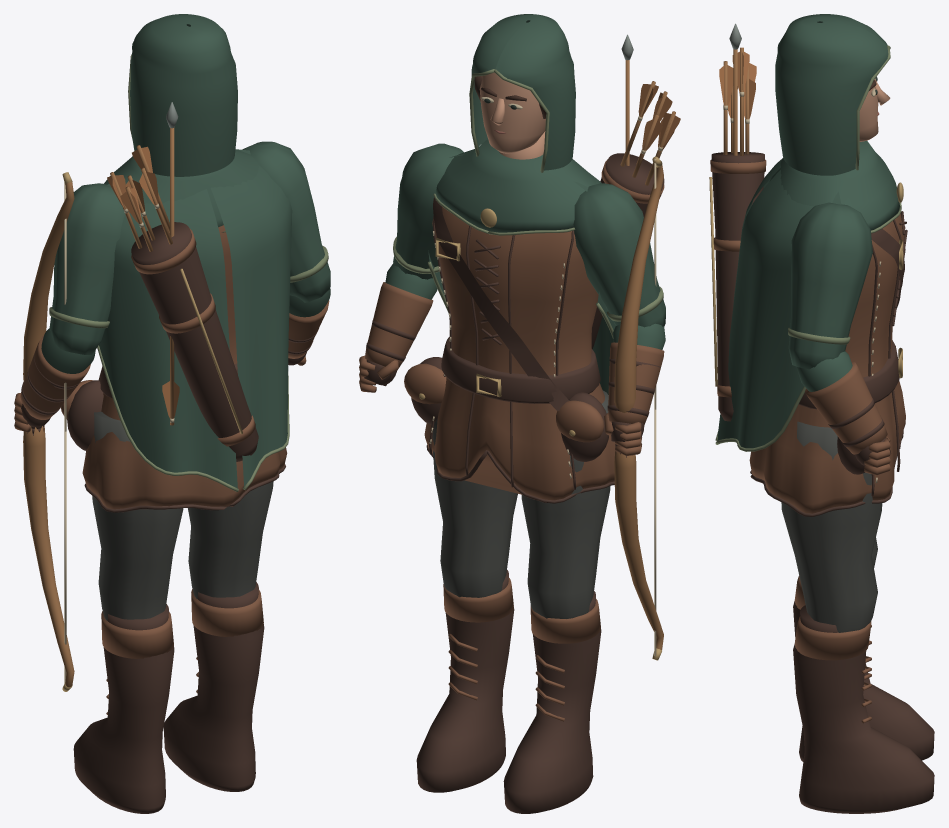
Rendered from archer.glb.
The picture shows the model from 3 angles, left to right: view 1: azimuth 30°, elevation 25°; view 2: azimuth 150°, elevation 25°; view 3: azimuth 270°, elevation 25°; orthographic projection. The views are drawn at different scales.
Parts seen in each view (by area): view 1: Doublet Lana de pino, RangerHead Lana de pino, LegRight Cuero encerado, LegLeft Cuero encerado, Carcaj Cuero encerado, Doublet Jubón de avellana, SleeveLeft Lana de pino, LegLeft Calzas de carbón, Longbow Tejo, LegRight Calzas de carbón, SleeveRight Lana de pino, Doublet Cuero encerado (+13 smaller); view 2: Doublet Jubón de avellana, Doublet Cuero encerado, LegRight Cuero encerado, LegLeft Cuero encerado, Doublet Lana de pino, LegLeft Calzas de carbón, RangerHead Lana de pino, LegRight Calzas de carbón, SleeveLeft Lana de pino, Longbow Tejo, SleeveRight Lana de pino, RangerHead Piel tostada (+17 smaller); view 3: Doublet Lana de pino, LegRight Cuero encerado, RangerHead Lana de pino, Doublet Jubón de avellana, LegRight Calzas de carbón, SleeveRight Lana de pino, Carcaj Cuero encerado, Doublet Cuero encerado, BracerRight Jubón de avellana, LegLeft Cuero encerado, LegRight Jubón de avellana, Carcaj Tejo (+11 smaller).
Part boxes in pixels (x1,y1,x2,y2): Doublet Lana de pino: (99,149,292,488); RangerHead Lana de pino: (130,14,237,176); LegRight Cuero encerado: (163,582,264,791); LegLeft Cuero encerado: (73,604,174,813); Carcaj Cuero encerado: (131,222,258,461); Doublet Jubón de avellana: (61,225,287,509); SleeveLeft Lana de pino: (49,183,124,354); LegLeft Calzas de carbón: (92,411,183,620); Longbow Tejo: (23,182,74,687); LegRight Calzas de carbón: (188,481,273,598); SleeveRight Lana de pino: (242,141,330,302); Doublet Cuero encerado: (67,363,285,512); Doublet Jubón de avellana: (404,206,615,500); Doublet Cuero encerado: (411,197,614,503); LegRight Cuero encerado: (416,570,514,792); LegLeft Cuero encerado: (503,591,601,813); Doublet Lana de pino: (428,139,615,394); LegLeft Calzas de carbón: (521,390,610,618); RangerHead Lana de pino: (471,14,575,170); LegRight Calzas de carbón: (431,419,517,597); SleeveLeft Lana de pino: (573,183,665,327); Longbow Tejo: (614,158,663,659); SleeveRight Lana de pino: (393,143,463,279); RangerHead Piel tostada: (479,72,545,159); Doublet Lana de pino: (717,141,899,448); LegRight Cuero encerado: (793,605,934,813); RangerHead Lana de pino: (775,14,888,175); Doublet Jubón de avellana: (749,214,905,513); LegRight Calzas de carbón: (781,421,882,632); SleeveRight Lana de pino: (788,202,872,369); Carcaj Cuero encerado: (711,152,764,421); Doublet Cuero encerado: (750,211,907,516); BracerRight Jubón de avellana: (805,362,887,454); LegLeft Cuero encerado: (793,601,934,761); LegRight Jubón de avellana: (794,616,871,723); Carcaj Tejo: (723,47,749,155).
Size of the model in its own units: 0.732 by 1.85 by 0.498.
